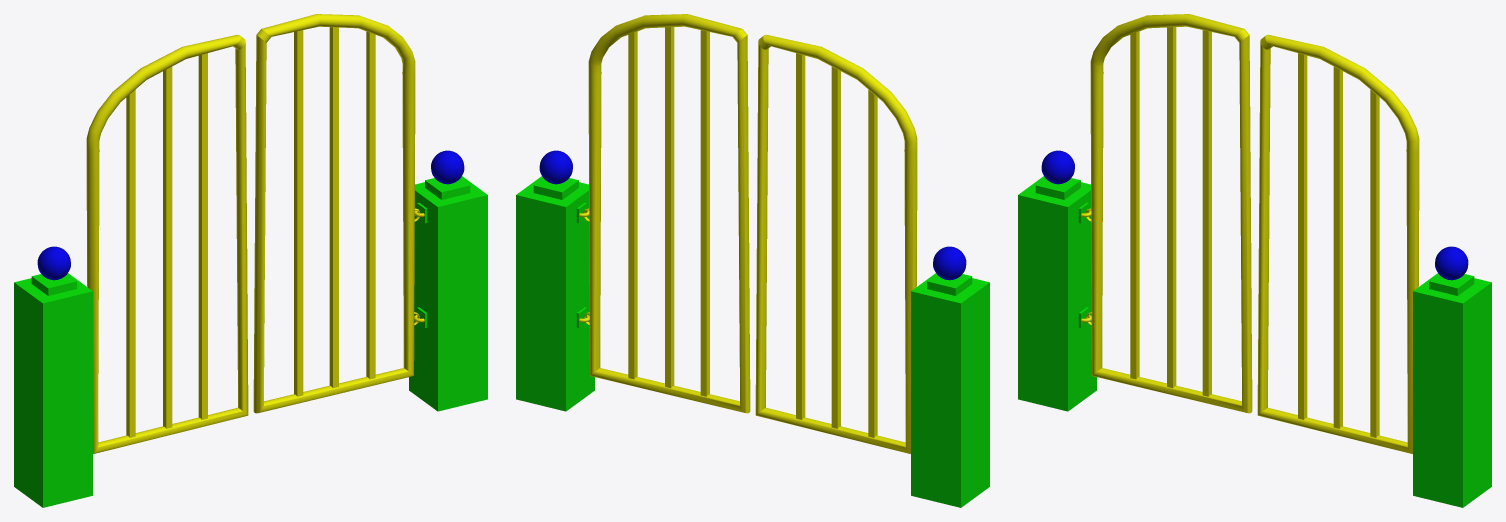
The model's file is portail.fbx.
The picture shows the model from 3 angles, left to right: view 1: azimuth 30°, elevation 25°; view 2: azimuth 150°, elevation 25°; view 3: azimuth 330°, elevation 25°; orthographic projection.
Visible parts, largest first — view 1: pasted__pTorus5; view 2: pasted__pTorus5; view 3: pasted__pTorus5.
Part boxes in pixels (left/top/right/bottom): pasted__pTorus5: left=14, top=14, right=487, bottom=507; pasted__pTorus5: left=516, top=14, right=989, bottom=507; pasted__pTorus5: left=1018, top=14, right=1491, bottom=507.
Size of the model in its own units: 993 by 879 by 112.
